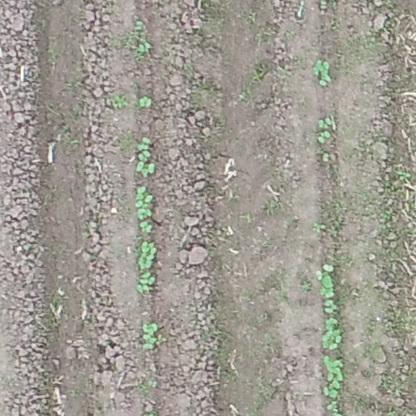vc: (134, 135, 156, 178), (321, 317, 344, 350), (323, 356, 341, 398), (136, 240, 158, 268), (312, 59, 331, 87), (135, 187, 152, 218), (141, 321, 157, 350), (135, 273, 157, 294), (320, 271, 335, 299), (138, 93, 154, 108), (137, 38, 150, 53), (318, 130, 331, 143), (140, 222, 154, 234), (323, 301, 338, 312), (318, 118, 332, 127), (134, 21, 145, 30)
